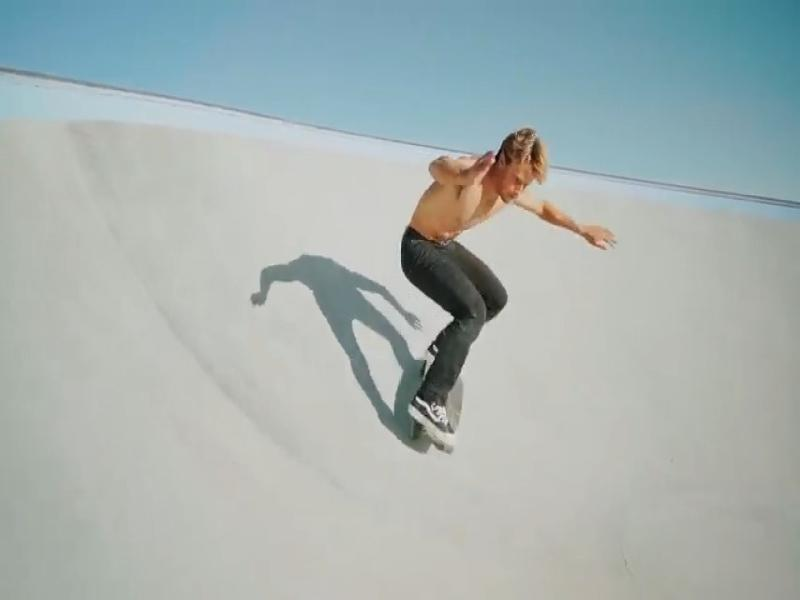person: (402, 127, 614, 447)
